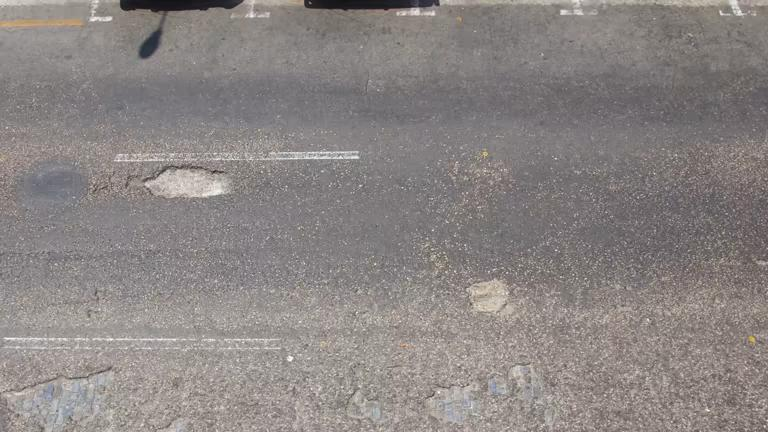faded_road_lines: (0, 335, 290, 358), (113, 147, 365, 170), (541, 0, 603, 20), (380, 0, 440, 20), (224, 0, 277, 22), (85, 0, 118, 32), (719, 0, 760, 19)
pothole: (422, 353, 568, 432), (0, 362, 118, 432), (86, 167, 246, 200), (460, 277, 528, 322), (345, 387, 387, 432), (153, 413, 197, 432)
